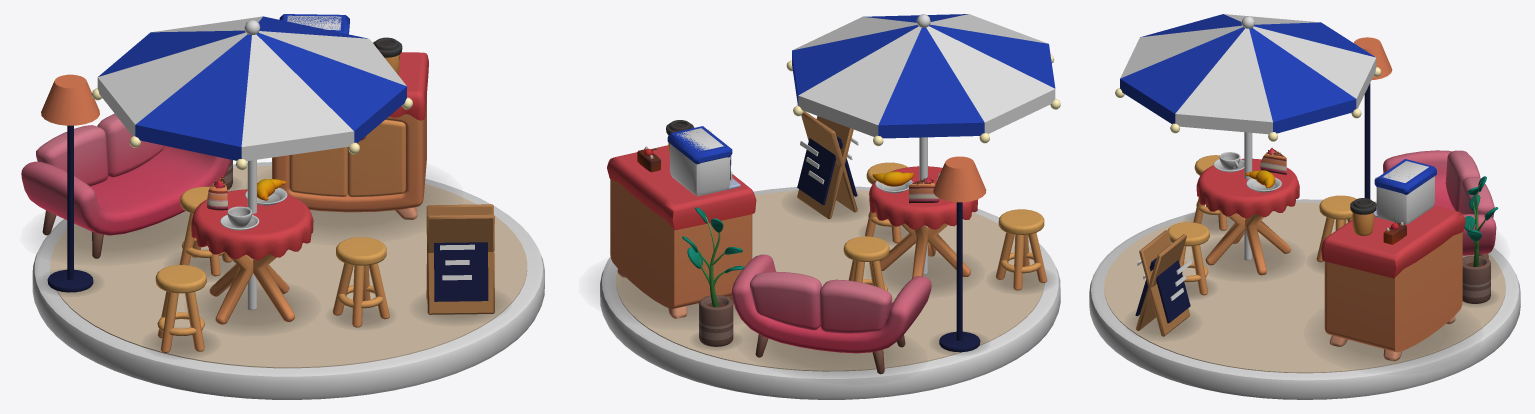
Rendered from cafe.glb.
The picture shows the model from 3 angles, left to right: view 1: azimuth 30°, elevation 25°; view 2: azimuth 150°, elevation 25°; view 3: azimuth 270°, elevation 25°; orthographic projection. The views are drawn at different scales.
Parts seen in each view (by area): view 1: matte, shadow, glow; view 2: matte, shadow, glow; view 3: matte, shadow, glow.
Boxes of the visible parts, bbox=[...] form: matte: bbox=[21, 14, 544, 399]; shadow: bbox=[44, 180, 499, 355]; glow: bbox=[91, 88, 412, 170]; matte: bbox=[600, 14, 1060, 399]; shadow: bbox=[602, 196, 1048, 376]; glow: bbox=[708, 54, 1060, 146]; matte: bbox=[1089, 14, 1520, 399]; shadow: bbox=[1133, 214, 1493, 365]; glow: bbox=[1115, 67, 1381, 179].
Size of the model in its own units: 3.8 by 2.58 by 3.8.
